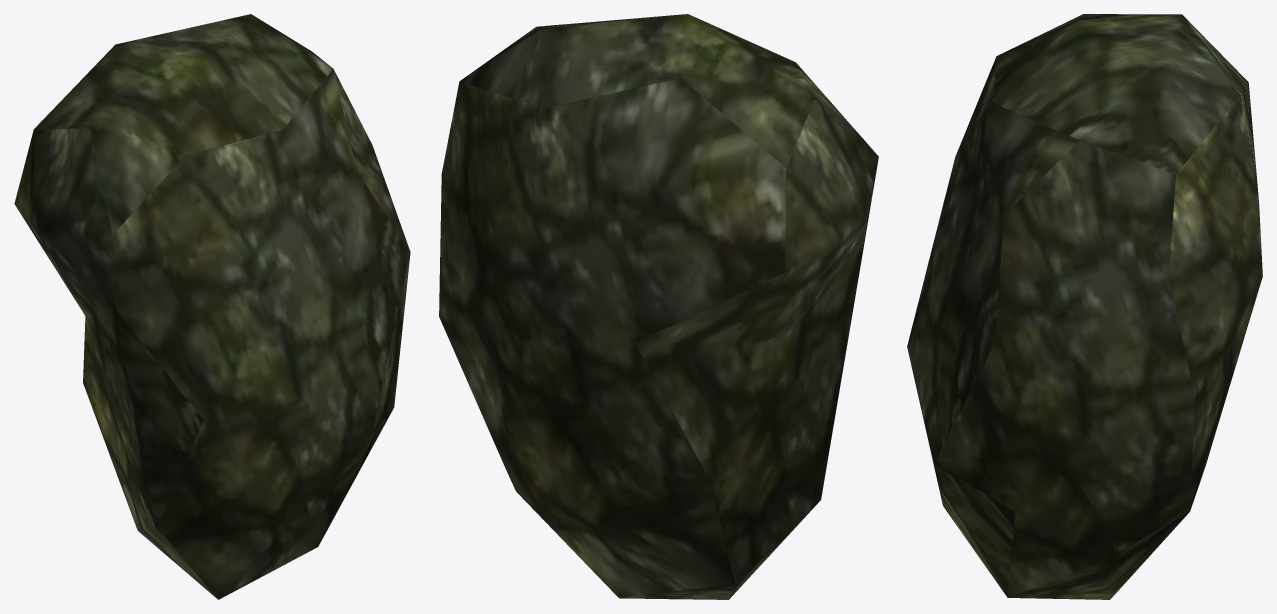
Rendered from ITAT_SWAMPDRAGONHEART.glb.
3 renders of one model, left to right at view 1: azimuth 30°, elevation 25°; view 2: azimuth 150°, elevation 25°; view 3: azimuth 270°, elevation 25°, orthographic. The views are drawn at different scales.
Parts seen in each view (by area): view 1: Mesh; view 2: Mesh; view 3: Mesh.
Boxes of the visible parts, x1=… form: Mesh: x1=14, y1=14, x2=410, y2=599; Mesh: x1=439, y1=14, x2=878, y2=599; Mesh: x1=907, y1=14, x2=1262, y2=599.
Bounding box in the file's own units: 0.2162 × 0.3053 × 0.1735.
1 material, 1 textured.
